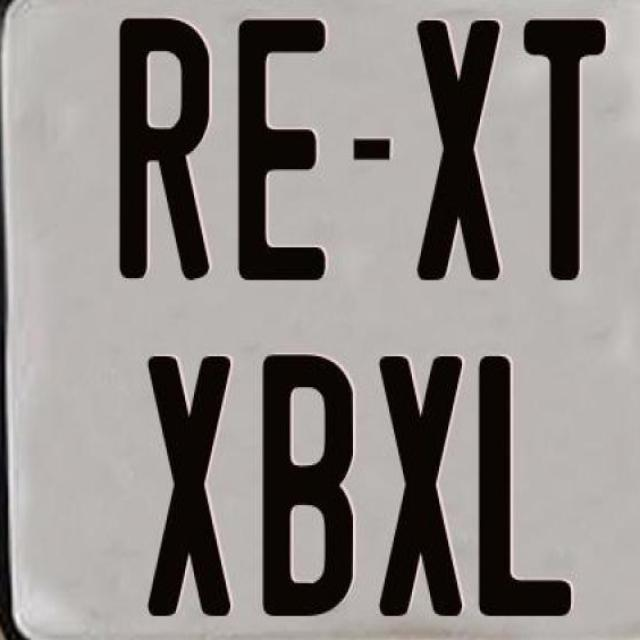license-plate: (6, 8, 640, 627)
